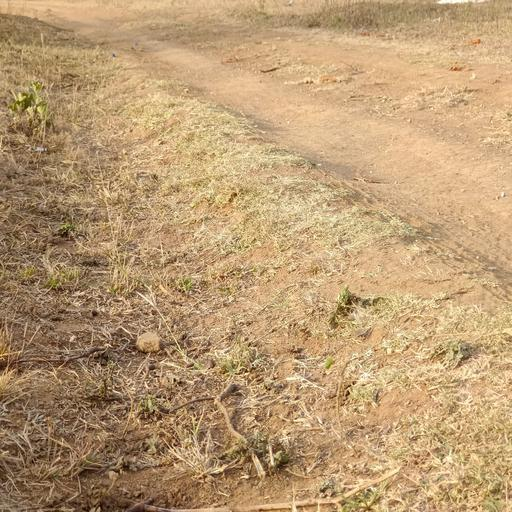vehicle_track: (155, 48, 512, 251)
